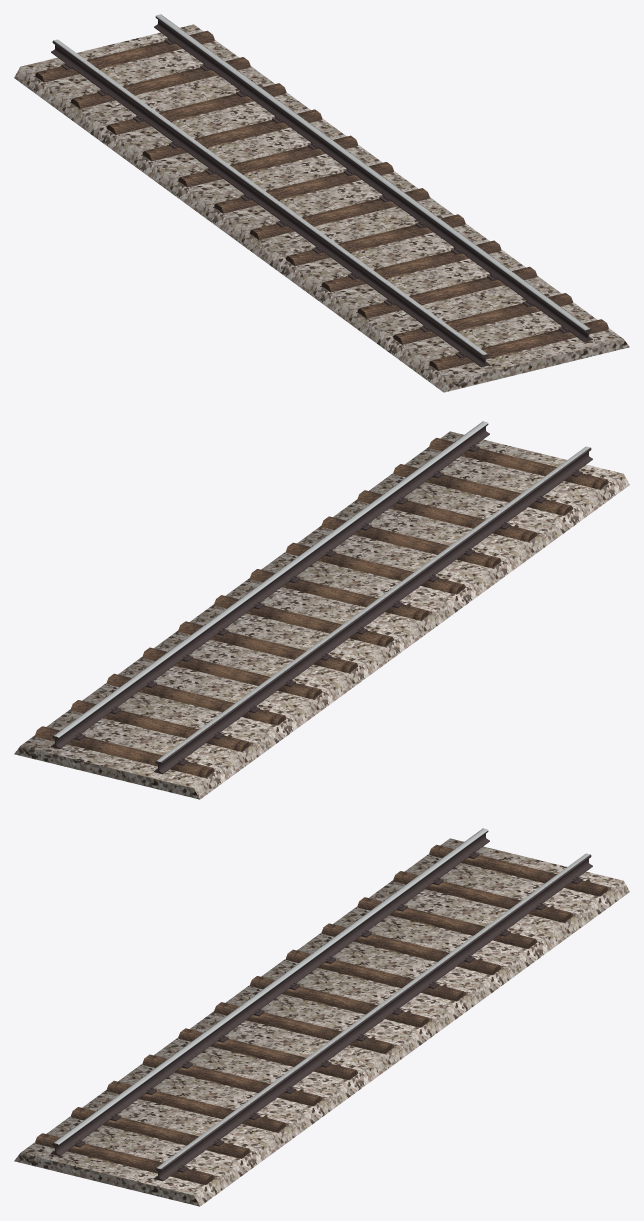
The picture shows the model from 3 angles, top to bottom: view 1: azimuth 30°, elevation 25°; view 2: azimuth 150°, elevation 25°; view 3: azimuth 330°, elevation 25°; orthographic projection.
Parts seen in each view (by area): view 1: 1Rails; view 2: 1Rails; view 3: 1Rails.
Boxes of the visible parts, box(x1,y1,x2,y2) form: 1Rails: box(14, 14, 629, 392); 1Rails: box(14, 421, 629, 799); 1Rails: box(14, 828, 629, 1206).
Bounding box in the file's own units: 118 × 16.93 × 472.
Materials: 1 (1 with a texture image).
